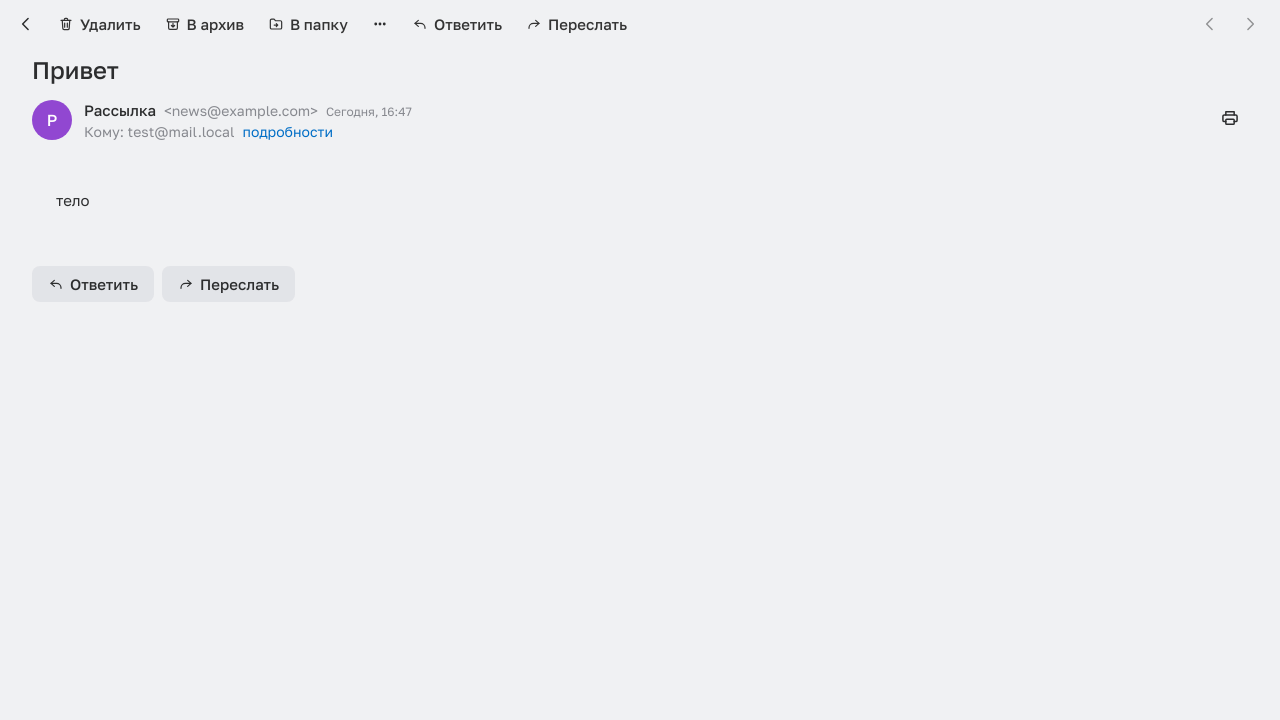
пункт меню и содержимое окна › рядом есть «Скачать .eml» — ссылкой на тот же маршрут
Click the button named "Ещё действия" at (380, 24), box [362,6,398,42]
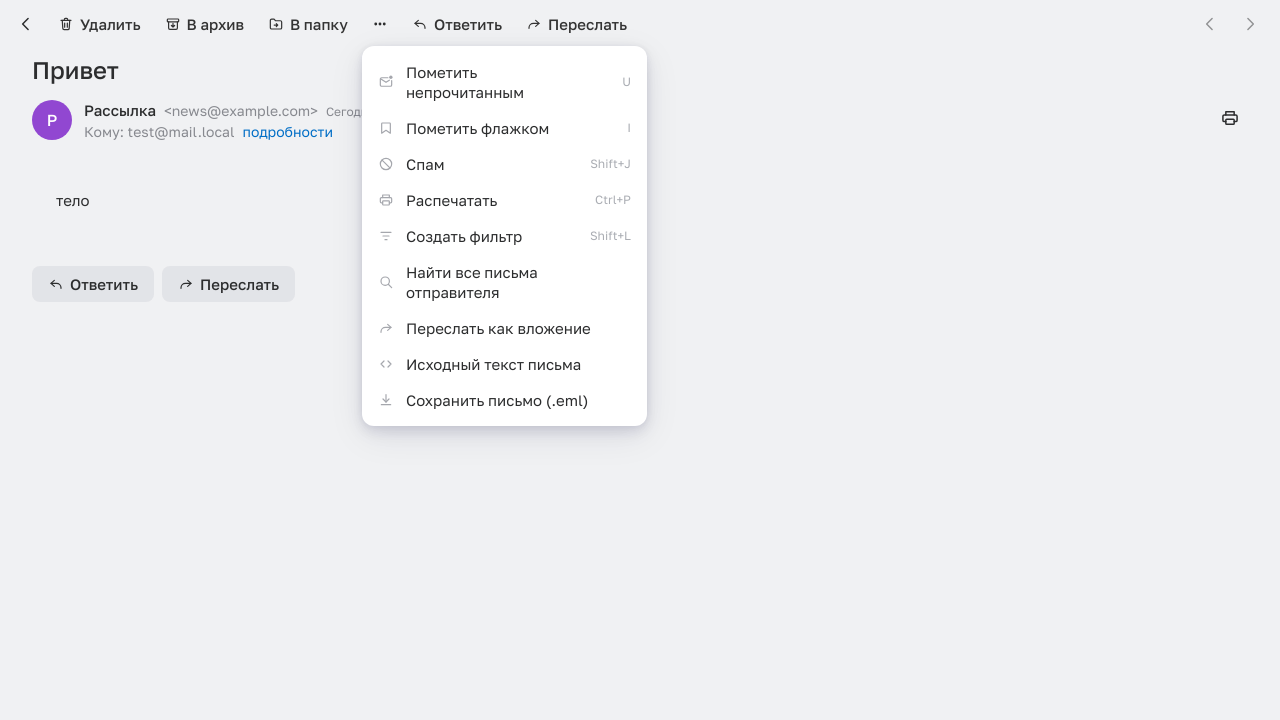
Click the menu item "Исходный текст письма" at (504, 364), box [362,346,647,382]
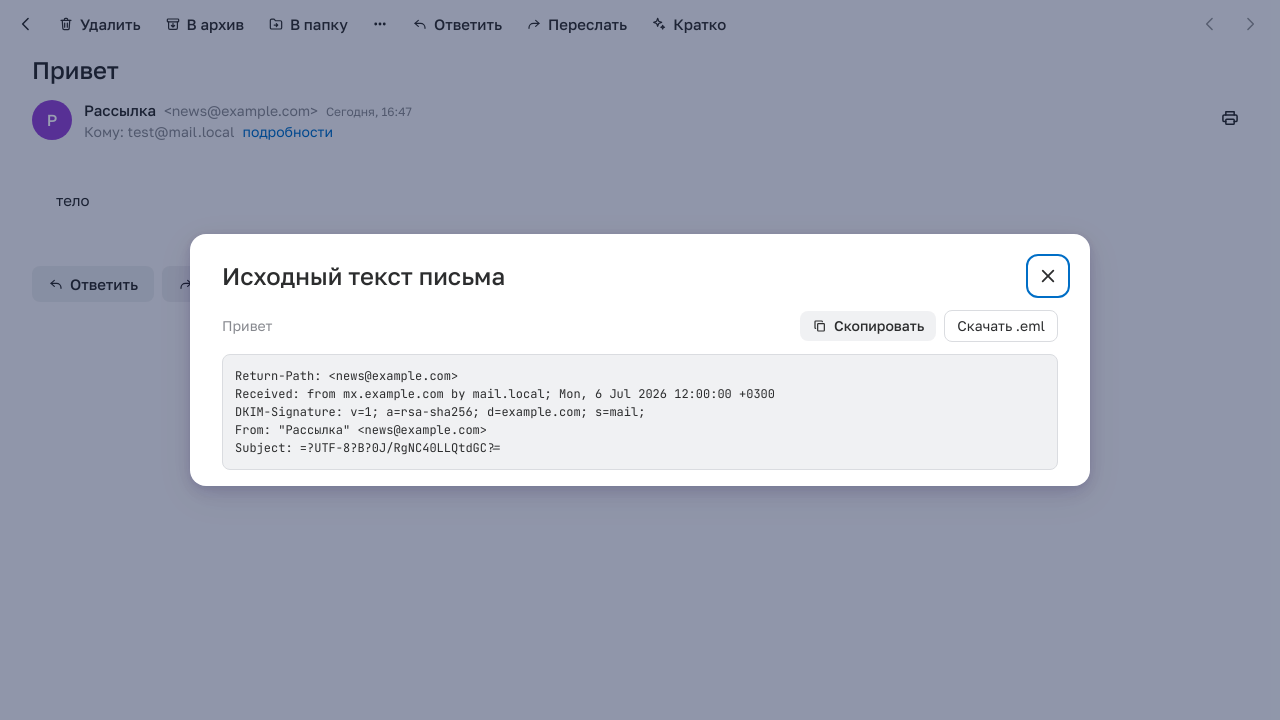
Now the link "Скачать .eml" is shown, box [944,310,1058,342]
